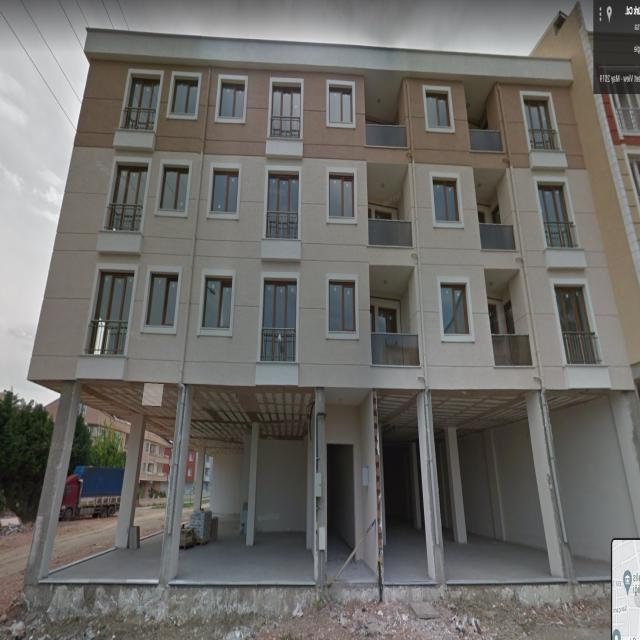Building: (25, 26, 640, 583)
